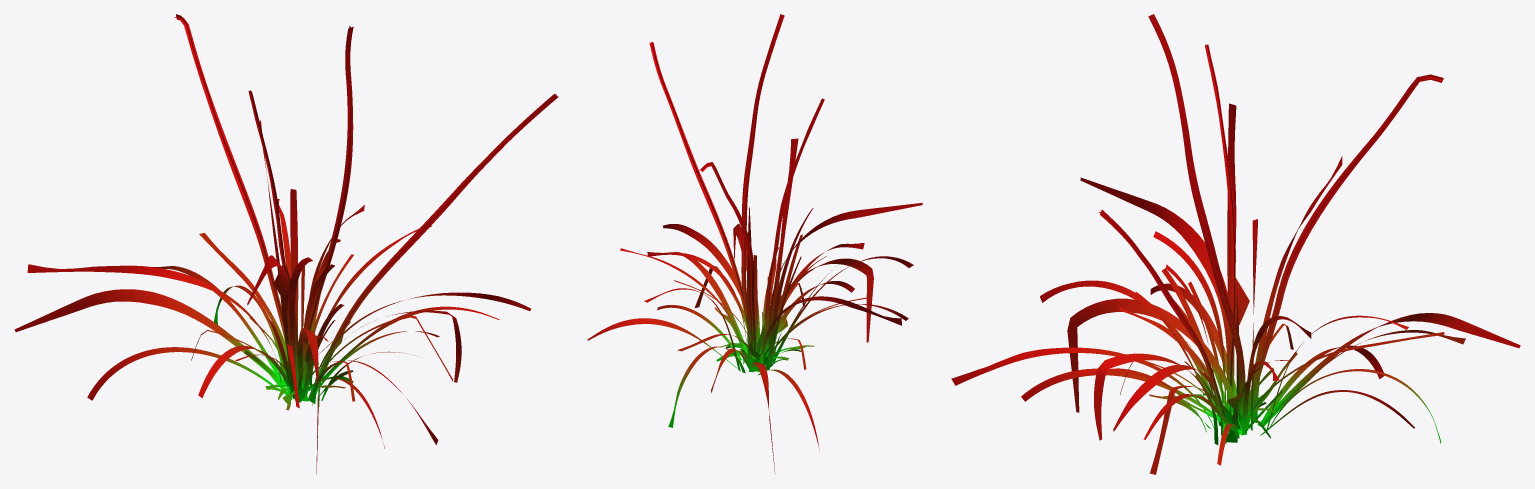
Rendered from tdcnfcdr_Var2_LOD0.fbx.
3 views of the same model, side by side, from view 1: azimuth 30°, elevation 25°; view 2: azimuth 150°, elevation 25°; view 3: azimuth 270°, elevation 25° (orthographic). The views are drawn at different scales.
Parts seen in each view (by area): view 1: _b83c_Var2_LOD0; view 2: _b83c_Var2_LOD0; view 3: _b83c_Var2_LOD0.
Part boxes in pixels (x1,y1,x2,y2): _b83c_Var2_LOD0: [14, 14, 558, 473]; _b83c_Var2_LOD0: [587, 14, 922, 473]; _b83c_Var2_LOD0: [951, 14, 1520, 474].
Bounding box in the file's own units: 141 × 134 × 156.
